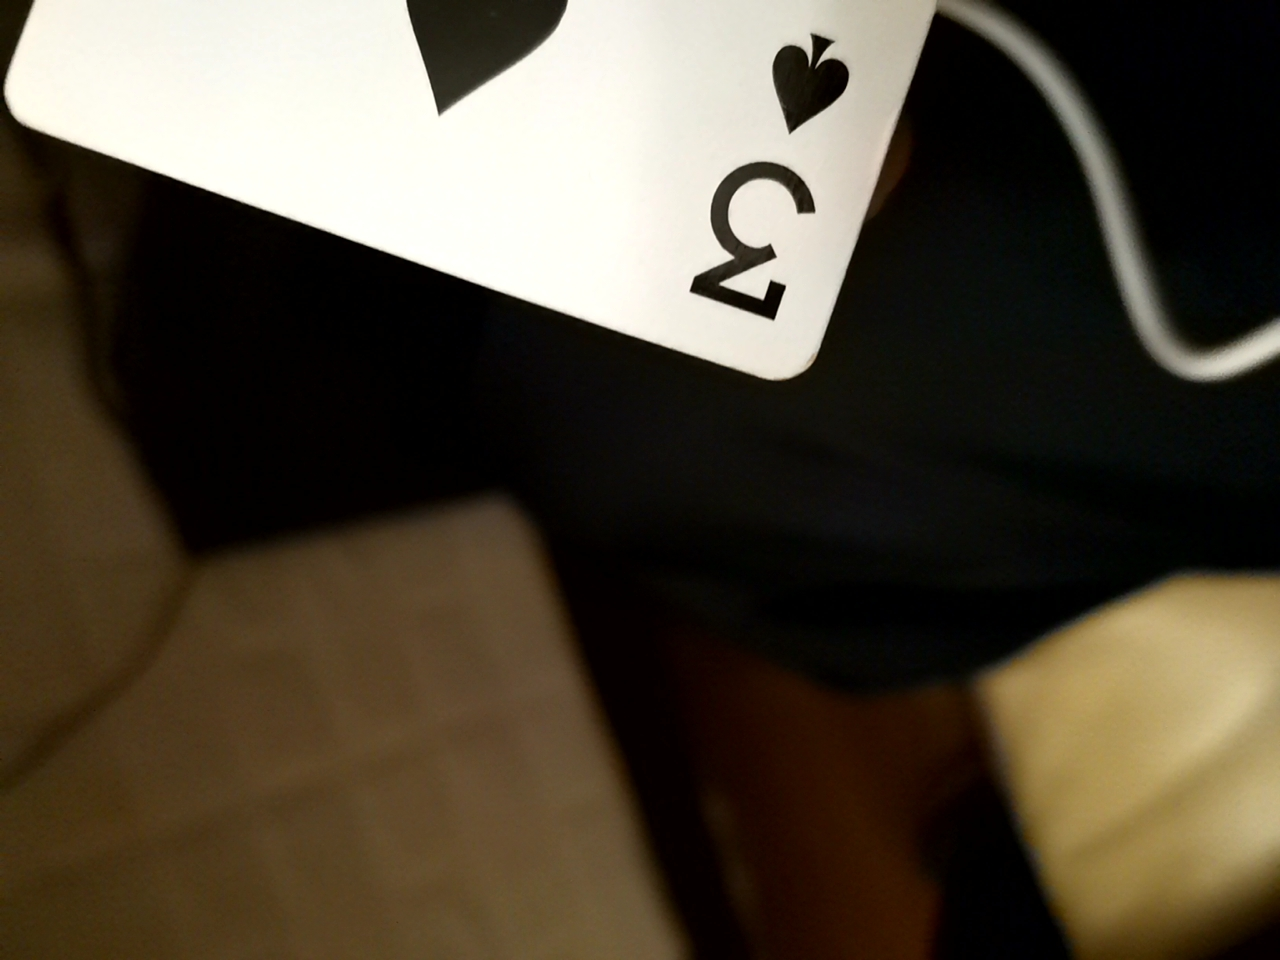ht 3: (10, 2, 1119, 412)
